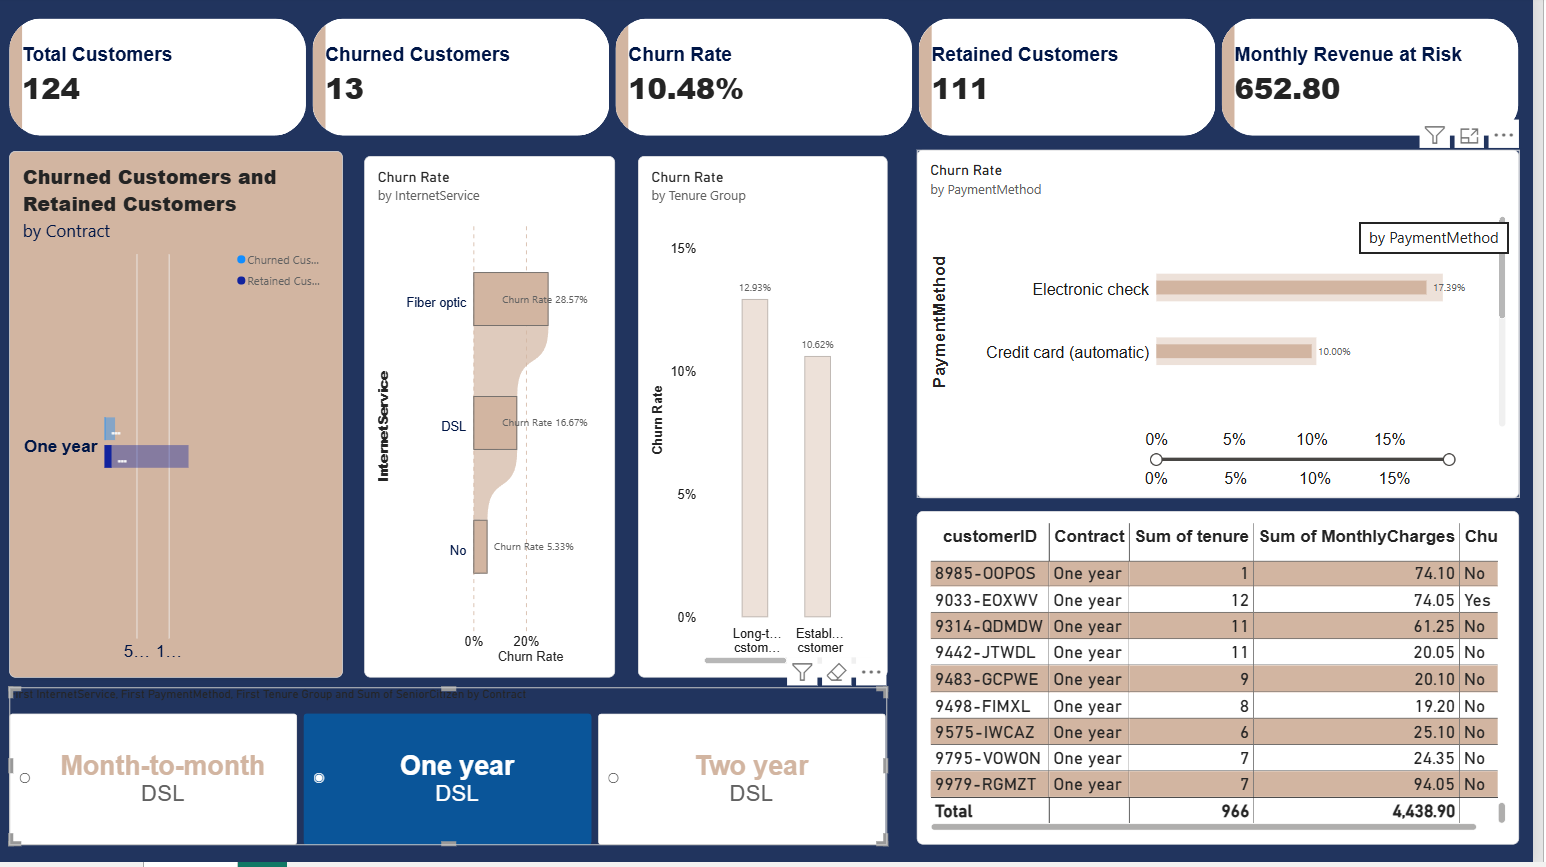

The dashboard page shown, as its layout file describes it:
{"tool":"powerbi","page":{"name":"Page 1","canvas":[1920,1080],"ordinal":0},"visuals":[{"type":"cardVisual","fields":{"Data":["WA_Fn-UseC_-Telco-Customer-Churn.Total Customers","WA_Fn-UseC_-Telco-Customer-Churn.Churned Customers","WA_Fn-UseC_-Telco-Customer-Churn.Churn Rate","WA_Fn-UseC_-Telco-Customer-Churn.Retained Customers","WA_Fn-UseC_-Telco-Customer-Churn.Monthly Revenue at Risk"]},"box":[20.6,28.8,1883.4,146.1],"z":0},{"type":"clusteredBarChart","fields":{"Category":["WA_Fn-UseC_-Telco-Customer-Churn.Contract"],"Y":["WA_Fn-UseC_-Telco-Customer-Churn.Churned Customers","WA_Fn-UseC_-Telco-Customer-Churn.Retained Customers"]},"box":[20.6,193.5,415.8,656.6],"z":1},{"type":"barChart","fields":{"Category":["WA_Fn-UseC_-Telco-Customer-Churn.InternetService"],"Y":["WA_Fn-UseC_-Telco-Customer-Churn.Churn Rate"]},"box":[463.1,199.7,312.9,650.4],"z":3},{"type":"clusteredColumnChart","fields":{"Category":["WA_Fn-UseC_-Telco-Customer-Churn.Tenure Group"],"Y":["WA_Fn-UseC_-Telco-Customer-Churn.Churn Rate"]},"box":[804.8,199.7,310.8,650.4],"z":4},{"type":"clusteredBarChart","fields":{"Category":["WA_Fn-UseC_-Telco-Customer-Churn.PaymentMethod"],"Y":["WA_Fn-UseC_-Telco-Customer-Churn.Churn Rate"]},"box":[1152.7,191.4,751.3,434.3],"z":5},{"type":"tableEx","fields":{"Values":["WA_Fn-UseC_-Telco-Customer-Churn.customerID","WA_Fn-UseC_-Telco-Customer-Churn.Contract","Sum(WA_Fn-UseC_-Telco-Customer-Churn.tenure)","Sum(WA_Fn-UseC_-Telco-Customer-Churn.MonthlyCharges)","WA_Fn-UseC_-Telco-Customer-Churn.Churn"]},"box":[1152.7,642.2,751.3,415.8],"z":6},{"type":"advancedSlicerVisual","fields":{"Label":["Min(WA_Fn-UseC_-Telco-Customer-Churn.InternetService)"],"Values":["WA_Fn-UseC_-Telco-Customer-Churn.Contract"]},"box":[20.9,861.6,1093.6,197.1],"z":7}]}

Visuals, with their boxes in screenshot pixels (x1, y1, x2, y2), scaled from the page's 1920x1080 canvas onto the 1546x867 screenshot:
cardVisual - WA_Fn-UseC_-Telco-Customer-Churn.Total Customers x WA_Fn-UseC_-Telco-Customer-Churn.Churned Customers: crop(17, 23, 1533, 140)
clusteredBarChart - WA_Fn-UseC_-Telco-Customer-Churn.Contract x WA_Fn-UseC_-Telco-Customer-Churn.Churned Customers: crop(17, 155, 351, 682)
barChart - WA_Fn-UseC_-Telco-Customer-Churn.InternetService x WA_Fn-UseC_-Telco-Customer-Churn.Churn Rate: crop(373, 160, 625, 682)
clusteredColumnChart - WA_Fn-UseC_-Telco-Customer-Churn.Tenure Group x WA_Fn-UseC_-Telco-Customer-Churn.Churn Rate: crop(648, 160, 898, 682)
clusteredBarChart - WA_Fn-UseC_-Telco-Customer-Churn.PaymentMethod x WA_Fn-UseC_-Telco-Customer-Churn.Churn Rate: crop(928, 154, 1533, 502)
tableEx - WA_Fn-UseC_-Telco-Customer-Churn.customerID x WA_Fn-UseC_-Telco-Customer-Churn.Contract: crop(928, 516, 1533, 849)
advancedSlicerVisual - Min(WA_Fn-UseC_-Telco-Customer-Churn.InternetService) x WA_Fn-UseC_-Telco-Customer-Churn.Contract: crop(17, 692, 897, 850)
